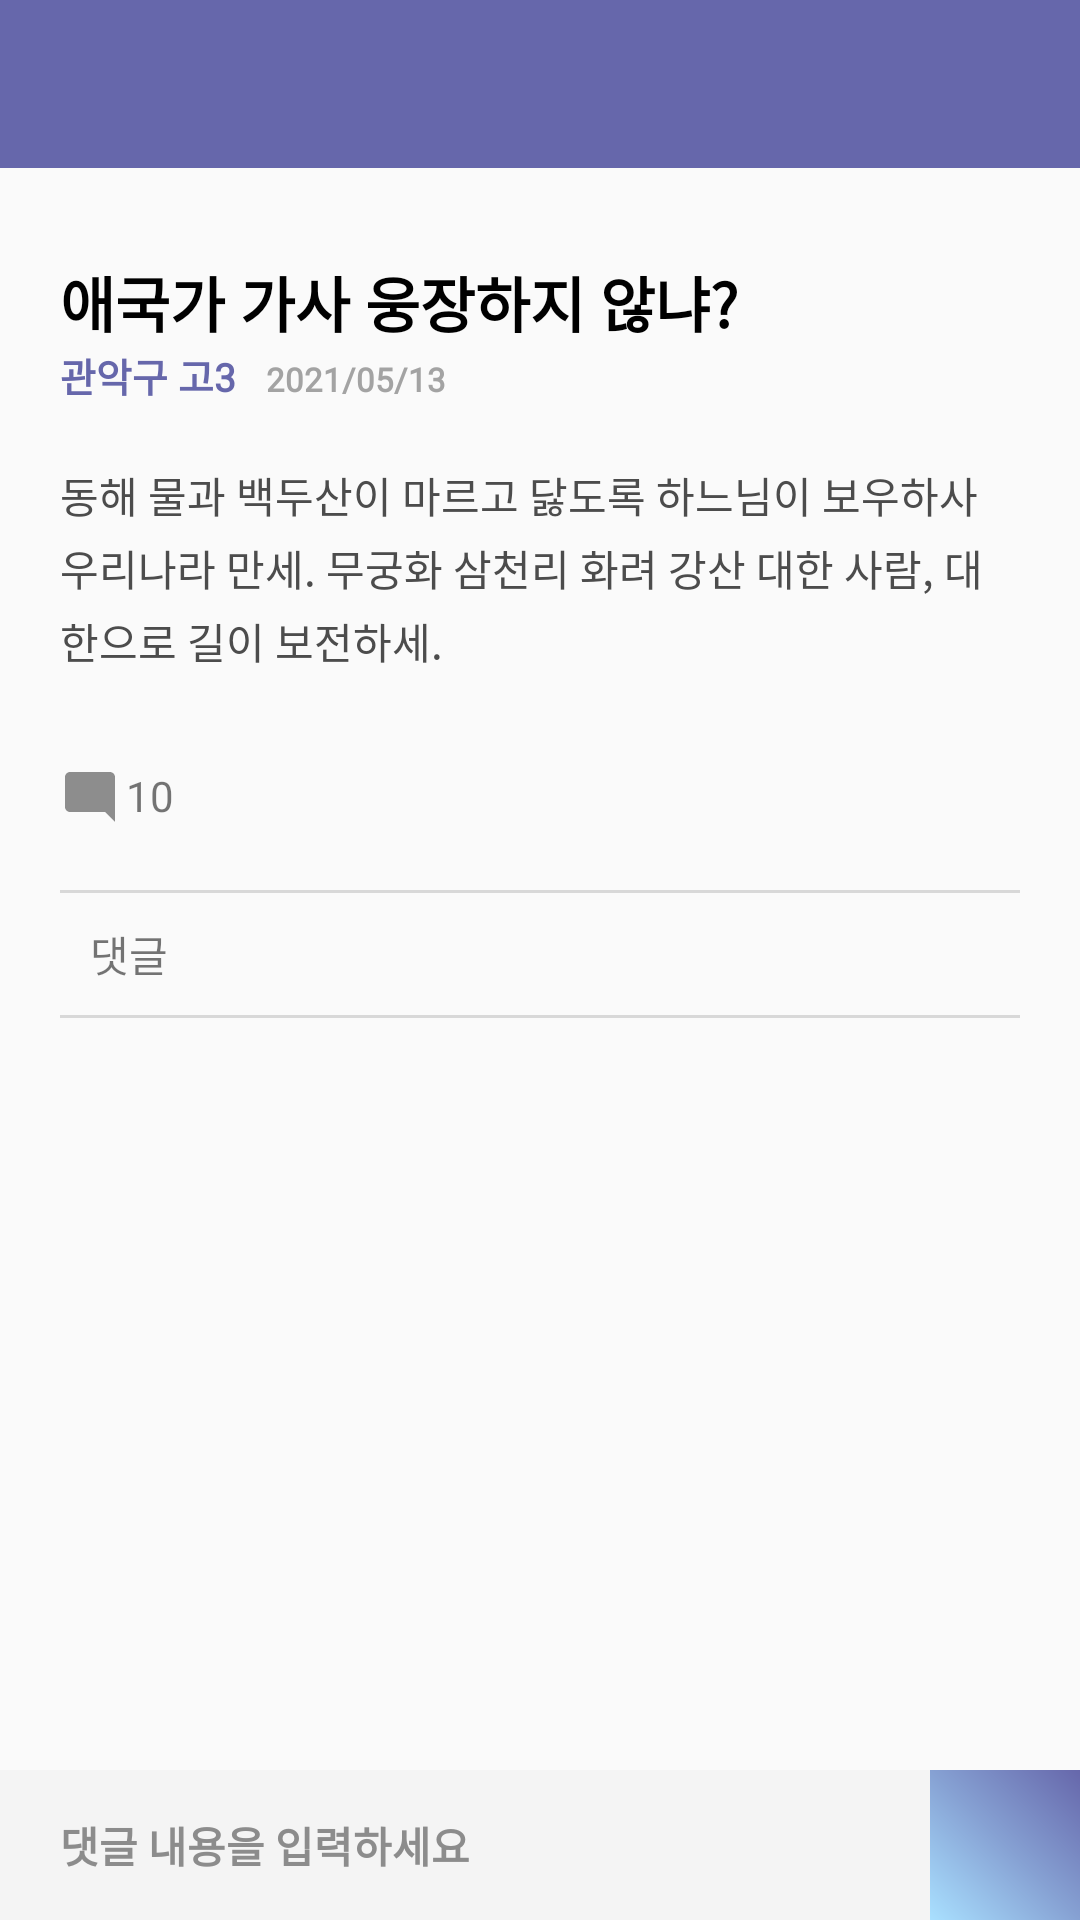

Screen size 1080w x 1920h. Icon name, then its box in pixels as (x1, y1, x2, y2):
chat: (65, 772, 115, 822)
